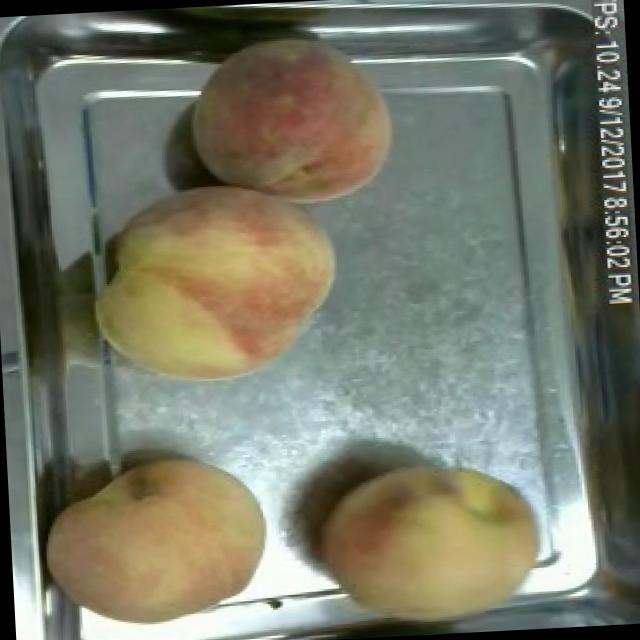Fruit: (86, 168, 354, 398), (300, 444, 557, 640), (34, 440, 284, 640), (178, 16, 409, 222)
